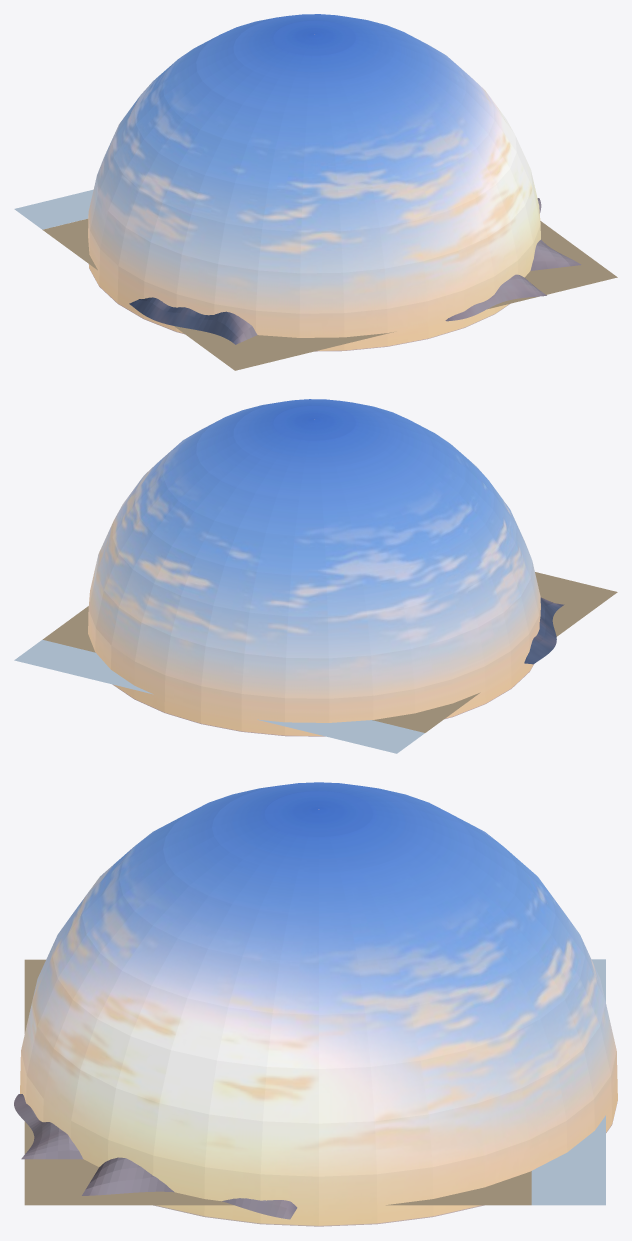
File: lugar-cnosos-ciudad.glb
3 renders of one model, top to bottom at view 1: azimuth 30°, elevation 25°; view 2: azimuth 150°, elevation 25°; view 3: azimuth 270°, elevation 25°, orthographic. The views are drawn at different scales.
Parts seen in each view (by area): view 1: planoC, vertT; view 2: planoC, vertT; view 3: planoC, vertT.
Boxes of the visible parts, x1,y1,x2,y2 form: planoC: [14, 14, 617, 370]; vertT: [129, 198, 581, 344]; planoC: [14, 399, 617, 753]; vertT: [524, 597, 564, 664]; planoC: [20, 782, 617, 1226]; vertT: [14, 1094, 297, 1219].
Size of the model in its own units: 6963 by 3530 by 6648.
20 materials, 15 textured.
